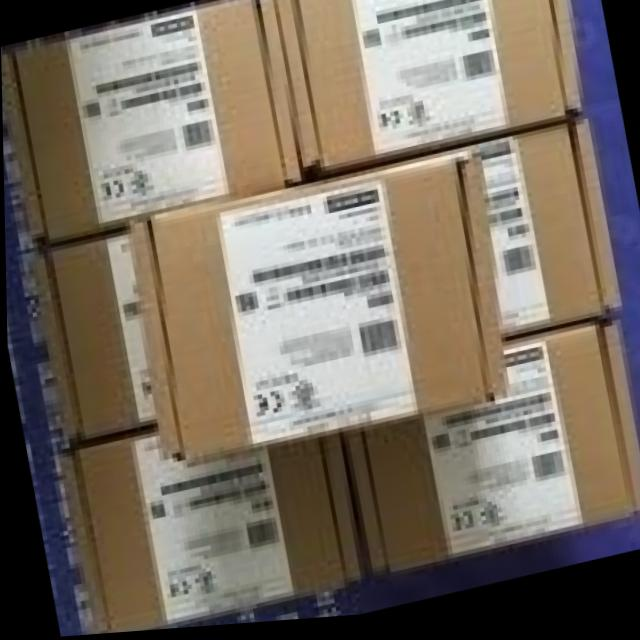box: (126, 149, 504, 466), (345, 327, 640, 579), (1, 0, 303, 244), (60, 424, 358, 635), (276, 0, 581, 177), (469, 123, 620, 346), (30, 236, 160, 445)
